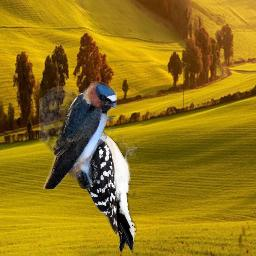Swallow: (39, 81, 117, 189)
Woodpecker: (65, 110, 137, 253)
